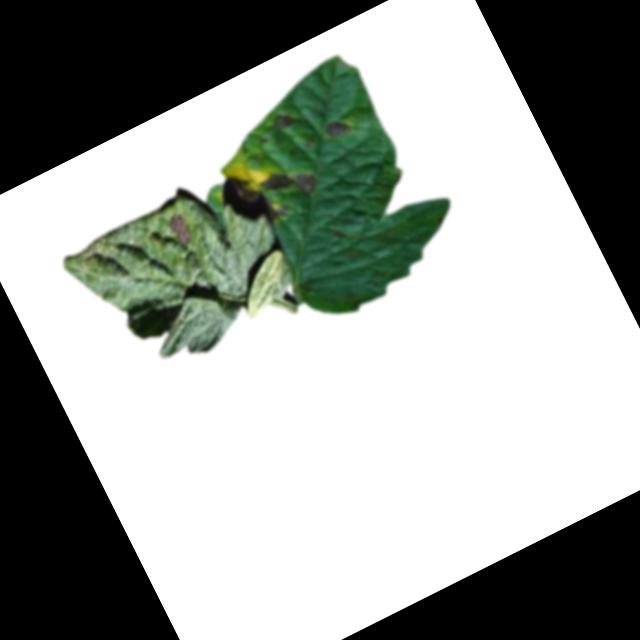Early_blight: (258, 154, 322, 208), (162, 206, 200, 252), (316, 112, 351, 146), (270, 104, 302, 133)
